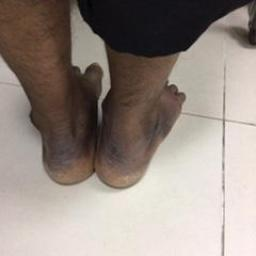Back View -Both Feet-: (13, 48, 193, 195)
